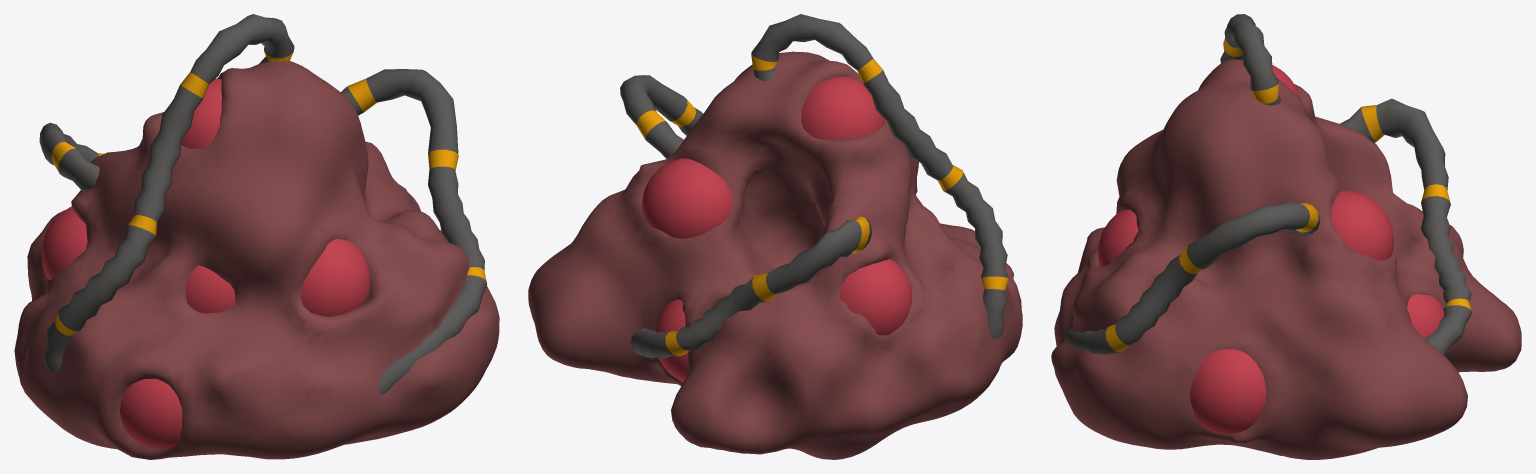
Rendered from Nest (1).fbx.
The picture shows the model from 3 angles, left to right: view 1: azimuth 30°, elevation 25°; view 2: azimuth 150°, elevation 25°; view 3: azimuth 270°, elevation 25°; orthographic projection. The views are drawn at different scales.
Parts seen in each view (by area): view 1: BezierCurve; view 2: BezierCurve; view 3: BezierCurve.
Boxes of the visible parts, left/top/right/bottom form: BezierCurve: left=14, top=14, right=499, bottom=459; BezierCurve: left=528, top=14, right=1022, bottom=459; BezierCurve: left=1051, top=14, right=1521, bottom=459.
Bounding box in the file's own units: 965 × 865 × 928.
